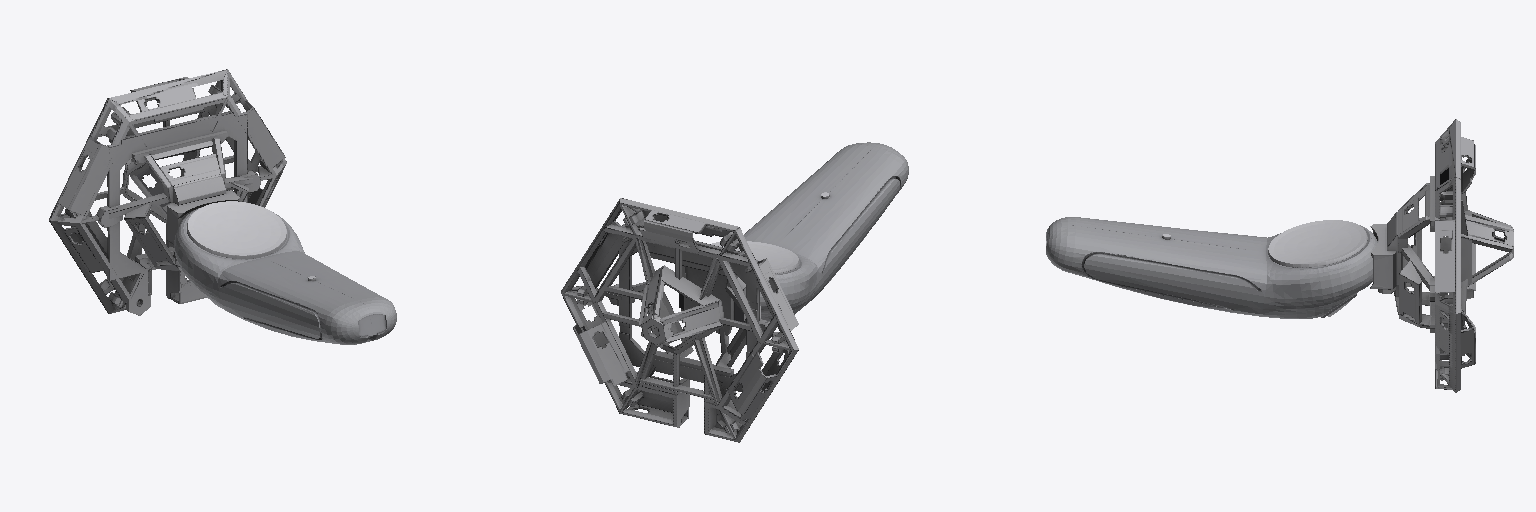
3 renders of one model, left to right at view 1: azimuth 30°, elevation 25°; view 2: azimuth 150°, elevation 25°; view 3: azimuth 270°, elevation 25°, orthographic.
Parts seen in each view (by area): view 1: Object001; view 2: Object001; view 3: Object001.
Part boxes in pixels (x1,y1,x2,y2): Object001: (49,69,396,344); Object001: (561,142,908,442); Object001: (1046,119,1513,392).
Size of the model in its own units: 0.1097 by 0.095 by 0.1865.
1 materials, 1 textured.